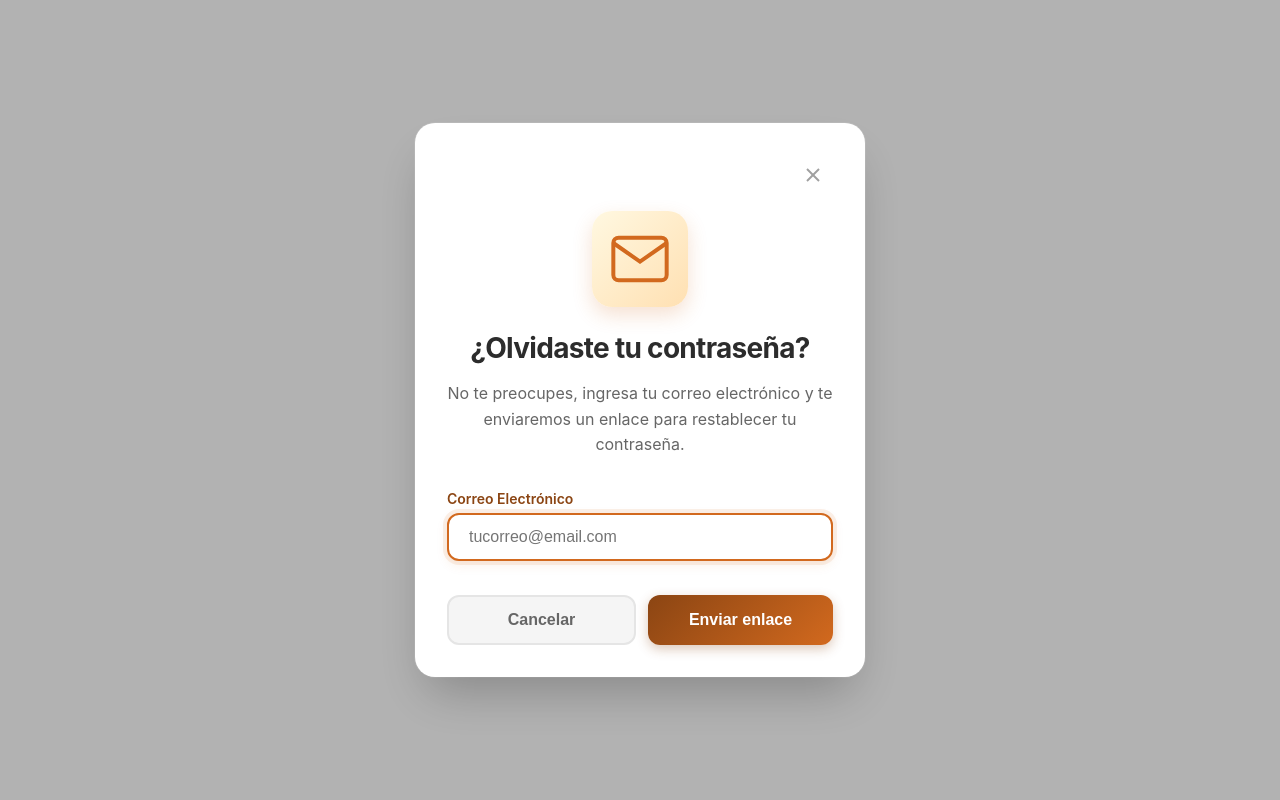
Test case: ForgotPasswordModal › muestra error cuando el correo no está registrado
Type "noexiste@mail.com" into the field with placeholder "tucorreo@email.com" at coordinates (640, 537), box [447,513,833,561]
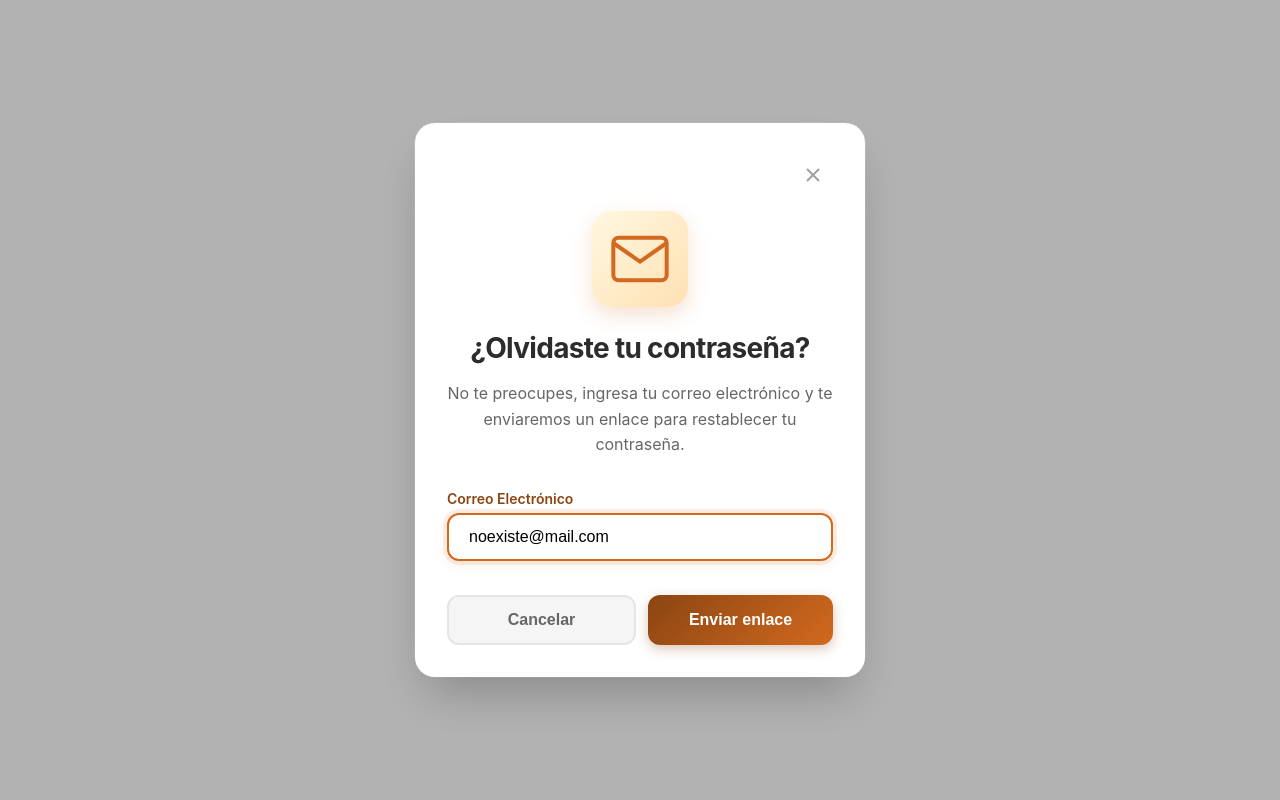
Click the button "Enviar enlace" at coordinates (740, 620), box [648,595,833,645]
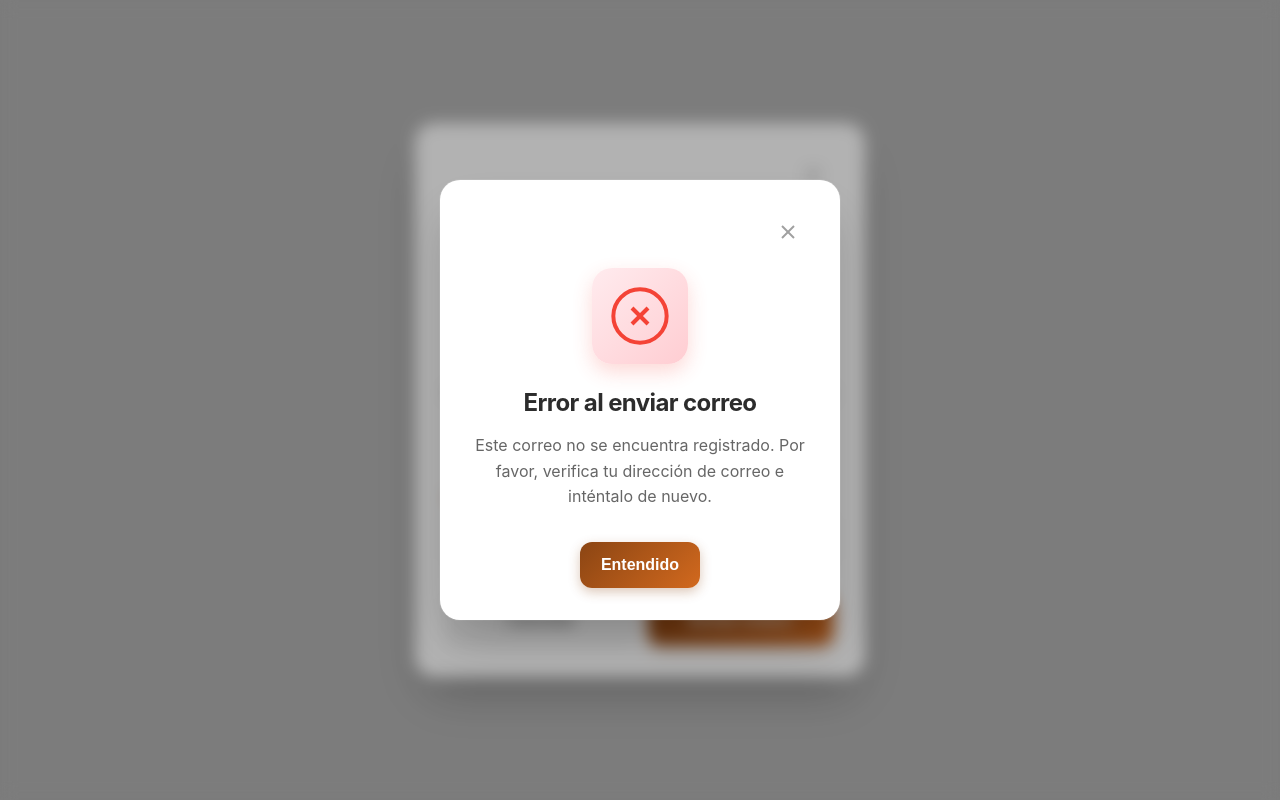
expect the heading "Error al enviar correo" is shown: met, box [524,388,756,417]
expect the text "Este correo no se encuentra registrado" is shown: met, box [475,435,805,506]
